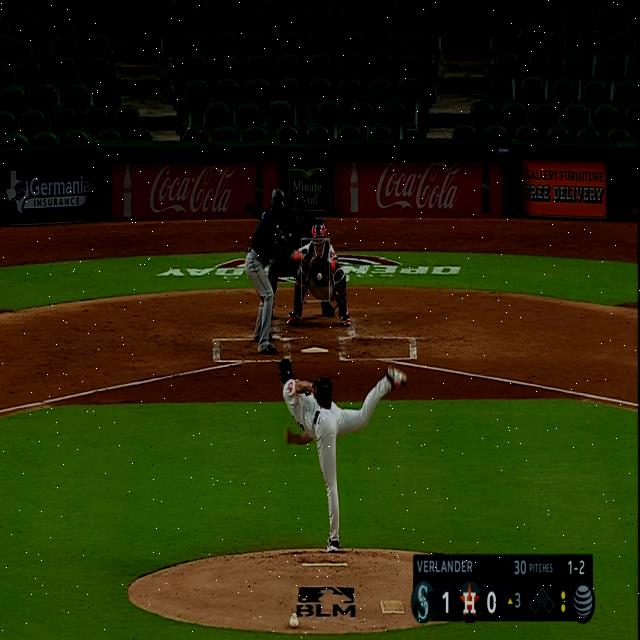baseball: (317, 272, 322, 282)
